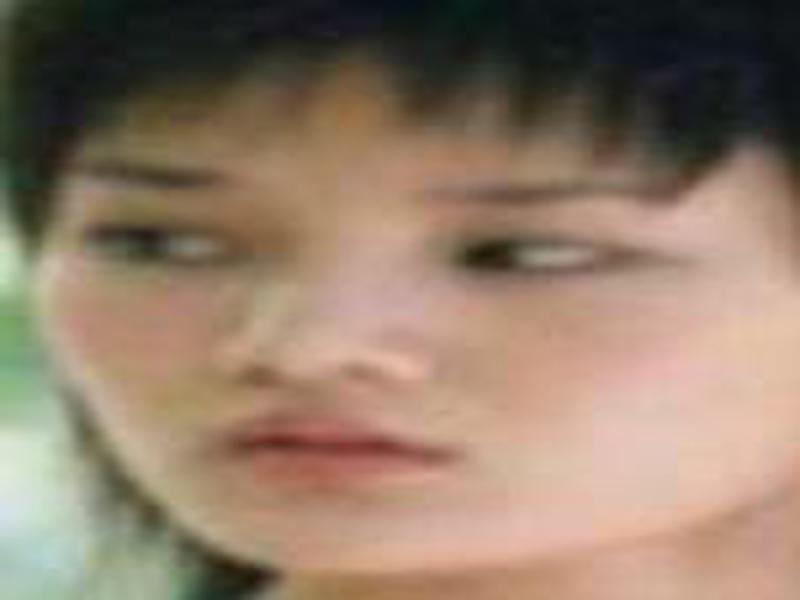without_mask: (34, 91, 778, 580)
